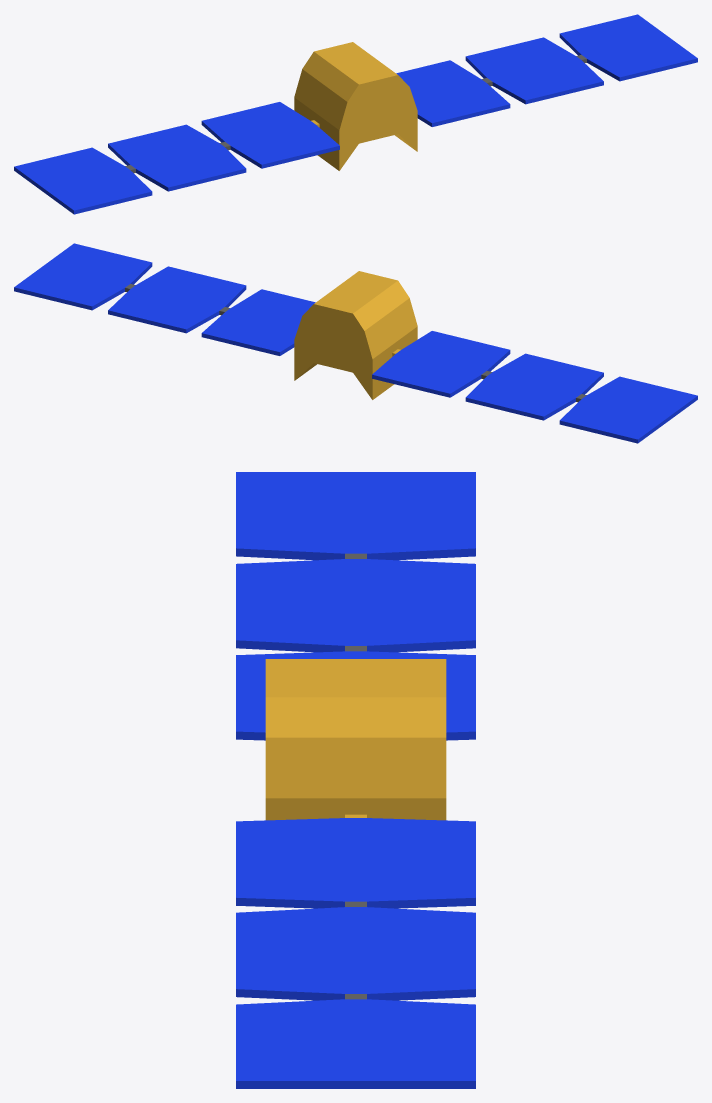
Rendered from s6laaaaay.glb.
The picture shows the model from 3 angles, top to bottom: view 1: azimuth 30°, elevation 25°; view 2: azimuth 150°, elevation 25°; view 3: azimuth 270°, elevation 25°; orthographic projection. The views are drawn at different scales.
Visible parts, largest first — view 1: Cube; view 2: Cube; view 3: Cube.
Part boxes in pixels (x1,y1,x2,y2): Cube: (14,14,697,214); Cube: (14,243,697,443); Cube: (236,472,475,1088).
Size of the model in its own units: 15.94 by 2 by 2.66.
